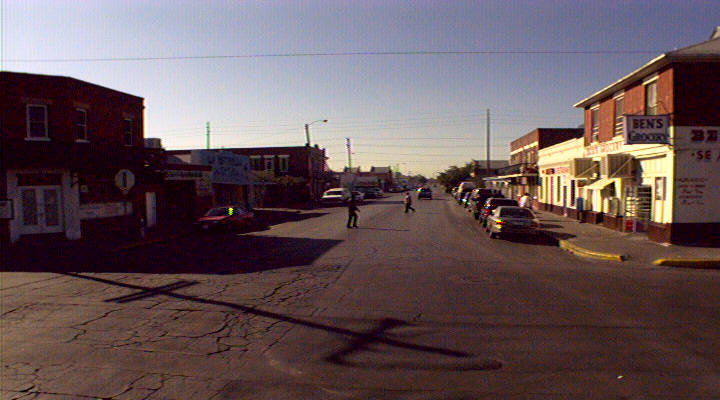Ramp: (609, 239, 666, 275)
